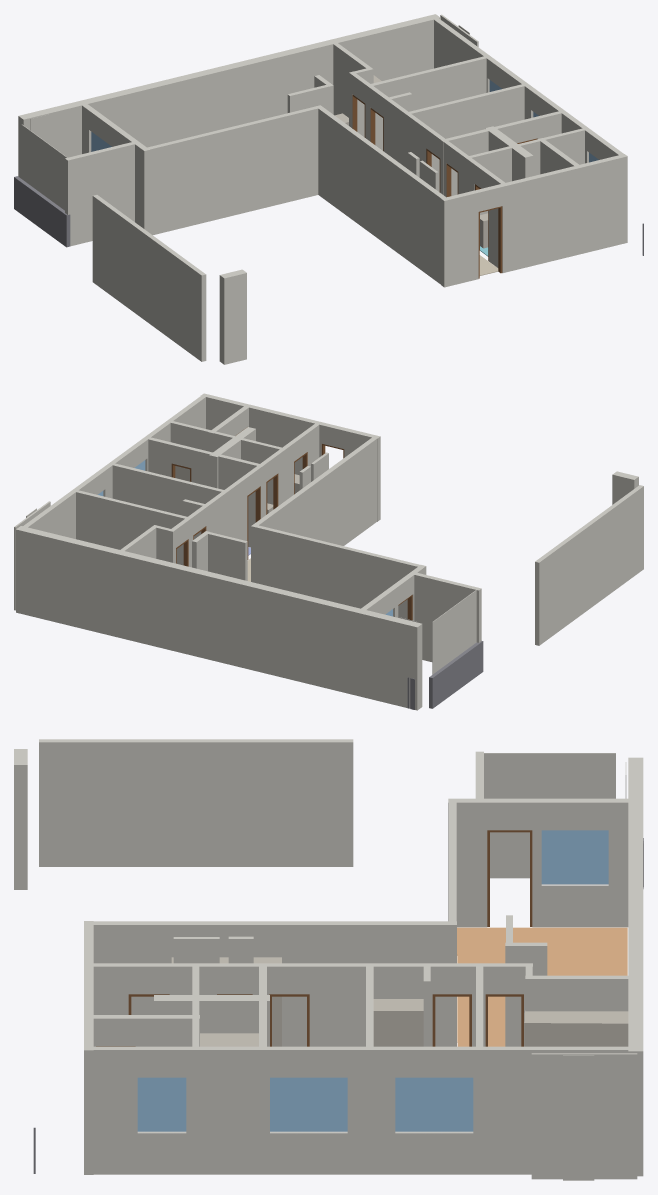
3 views of the same model, one above another, from view 1: azimuth 30°, elevation 25°; view 2: azimuth 150°, elevation 25°; view 3: azimuth 270°, elevation 25° (orthographic). The views are drawn at different scales.
Visible parts, largest first — view 1: walls, railings, door_0; view 2: walls, railings; view 3: walls, floor_0_Living_Room, window_4, window_2, furniture_0_closet, window_1, window_12, furniture_1_closet, furniture_3_closet, furniture_2_closet, door_3.
Boxes of the visible parts, box(x1,y1,x2,y2) form: walls: box(18, 14, 627, 364); railings: box(14, 176, 643, 255); door_0: box(478, 206, 502, 278); walls: box(14, 393, 643, 710); railings: box(407, 641, 483, 709); walls: box(14, 739, 643, 1180); floor_0_Living_Room: box(457, 927, 627, 1046); window_4: box(395, 1077, 473, 1131); window_2: box(270, 1077, 347, 1131); furniture_0_closet: box(524, 1010, 628, 1046); window_1: box(541, 830, 608, 884); window_12: box(137, 1077, 186, 1131); furniture_1_closet: box(373, 999, 423, 1046); furniture_3_closet: box(200, 1033, 258, 1046); furniture_2_closet: box(171, 957, 281, 1046); door_3: box(487, 830, 532, 926).
Bounding box in the file's own units: 14.7 × 2.72 × 12.36.
